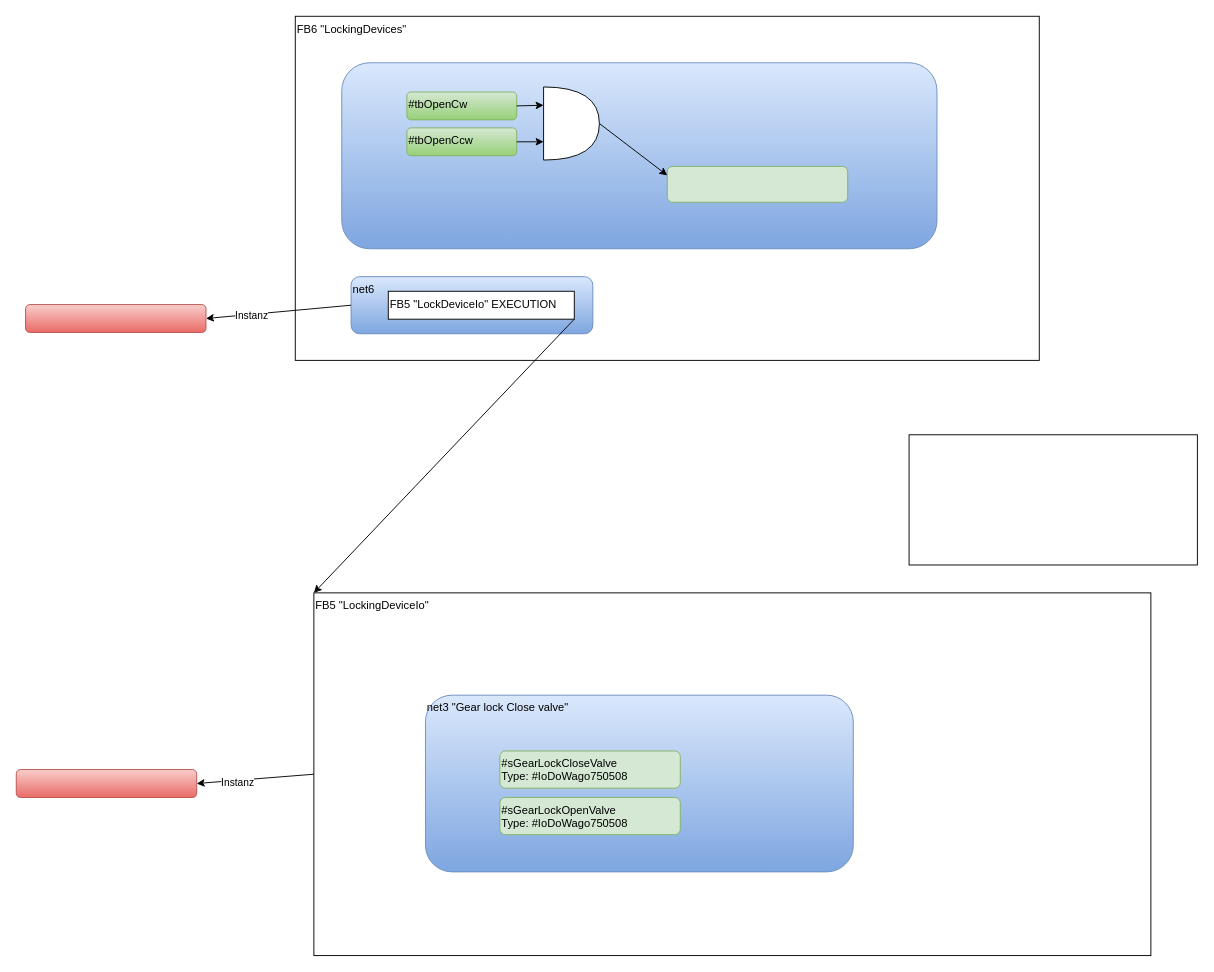
Image size: 1214x972. Some labels were removed from this diagram. The shapes that lost their labels are listed below. From the top down, each one's centre as x and y in pixels, then its label:
the point at 757,183: #sIo.sGearLockOpenValve.bValue Type: #IoDoWago750508.BOOL
the point at 115,318: DB???
the point at 1052,499: FB32 "SequenceLocking"
the point at 106,783: DB9 "LockingDeviceDB"
